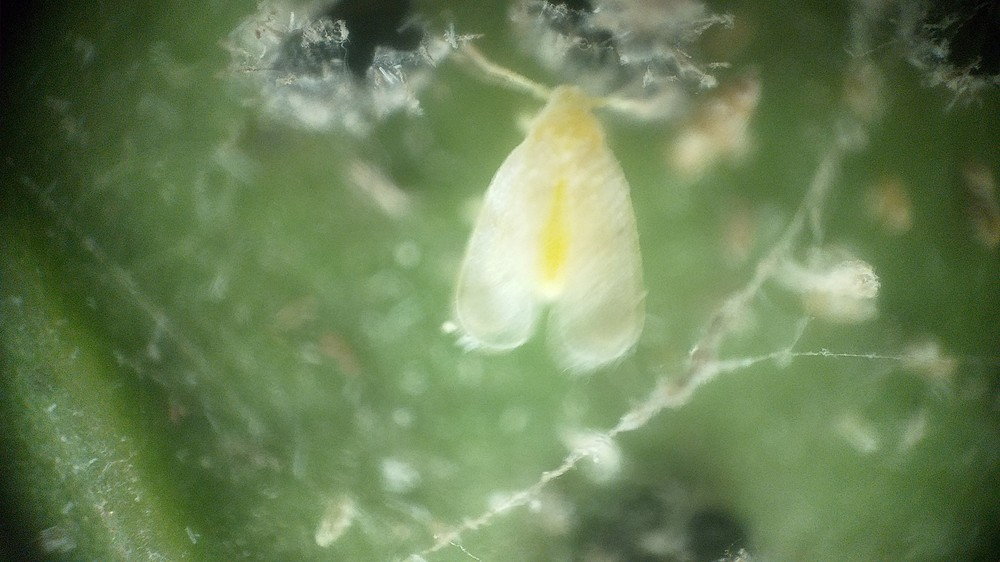Mosca Blanca: (430, 42, 699, 378)
